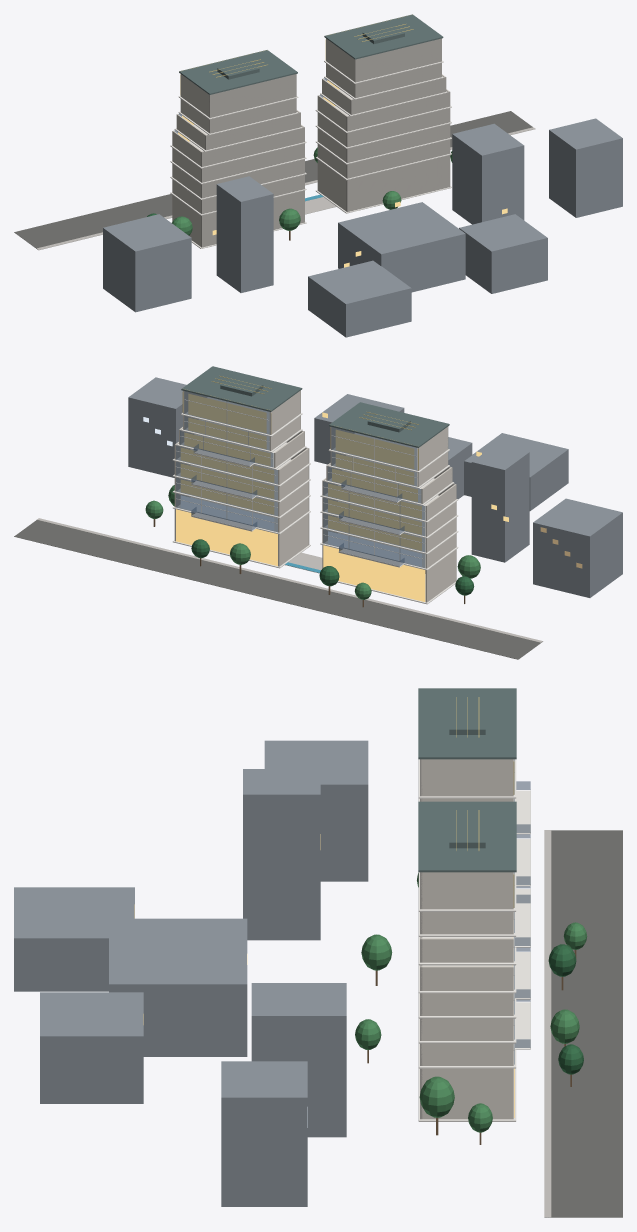
Rendered from seed-yarkon-towers.glb.
3 views of the same model, one above another, from view 1: azimuth 30°, elevation 25°; view 2: azimuth 150°, elevation 25°; view 3: azimuth 270°, elevation 25° (orthographic). The views are drawn at different scales.
Visible parts, largest first — view 1: bg_bldg_4, bg_bldg_2, bg_bldg_1, bg_bldg_3, bg_bldg_0, bg_bldg_5, bg_bldg_6, road_front, shell_back_F1.001, roof_parapet, roof_parapet.001, shell_back_F8 (+24 smaller); view 2: road_front, bg_bldg_2, bg_bldg_0, bg_bldg_3, bg_bldg_5, glass_F1, glass_F1.001, roof_parapet.001, roof_parapet, glass_F8.001, glass_F8, int_plane_F8 (+57 smaller); view 3: road_front, bg_bldg_4, bg_bldg_0, bg_bldg_3, bg_bldg_6, bg_bldg_5, bg_bldg_1, bg_bldg_2, roof_parapet, roof_parapet.001, shell_sideR_F8, shell_sideR_F8.001 (+17 smaller).
Part boxes in pixels (x1,y1,x2,y2): bg_bldg_4: (338, 202, 465, 292); bg_bldg_2: (103, 214, 191, 312); bg_bldg_1: (452, 123, 524, 224); bg_bldg_3: (549, 118, 622, 217); bg_bldg_0: (216, 176, 273, 292); bg_bldg_5: (308, 260, 411, 337); bg_bldg_6: (459, 214, 547, 293); road_front: (14, 111, 532, 248); shell_back_F1.001: (346, 155, 450, 211); roof_parapet: (179, 50, 297, 94); roof_parapet.001: (324, 14, 443, 59); shell_back_F8: (209, 74, 296, 117); road_front: (14, 520, 541, 659); bg_bldg_2: (533, 498, 622, 597); bg_bldg_0: (471, 444, 529, 562); bg_bldg_3: (128, 377, 186, 477); bg_bldg_5: (464, 433, 568, 510); glass_F1: (323, 545, 425, 601); glass_F1.001: (176, 509, 277, 566); roof_parapet.001: (181, 366, 302, 411); roof_parapet: (329, 402, 449, 447); glass_F8.001: (184, 391, 269, 434); glass_F8: (331, 427, 416, 470); int_plane_F8: (335, 429, 414, 468); road_front: (551, 830, 622, 1217); bg_bldg_4: (109, 918, 247, 1056); bg_bldg_0: (243, 769, 320, 940); bg_bldg_3: (221, 1061, 307, 1206); bg_bldg_6: (40, 992, 143, 1103); bg_bldg_5: (14, 887, 134, 991); bg_bldg_1: (251, 983, 346, 1137); bg_bldg_2: (264, 740, 368, 881); roof_parapet: (418, 688, 516, 759); roof_parapet.001: (418, 801, 516, 872); shell_sideR_F8: (421, 759, 513, 796); shell_sideR_F8.001: (421, 872, 513, 909).
Size of what is drawn, in the model's own units: 106 by 31.98 by 70.5.
